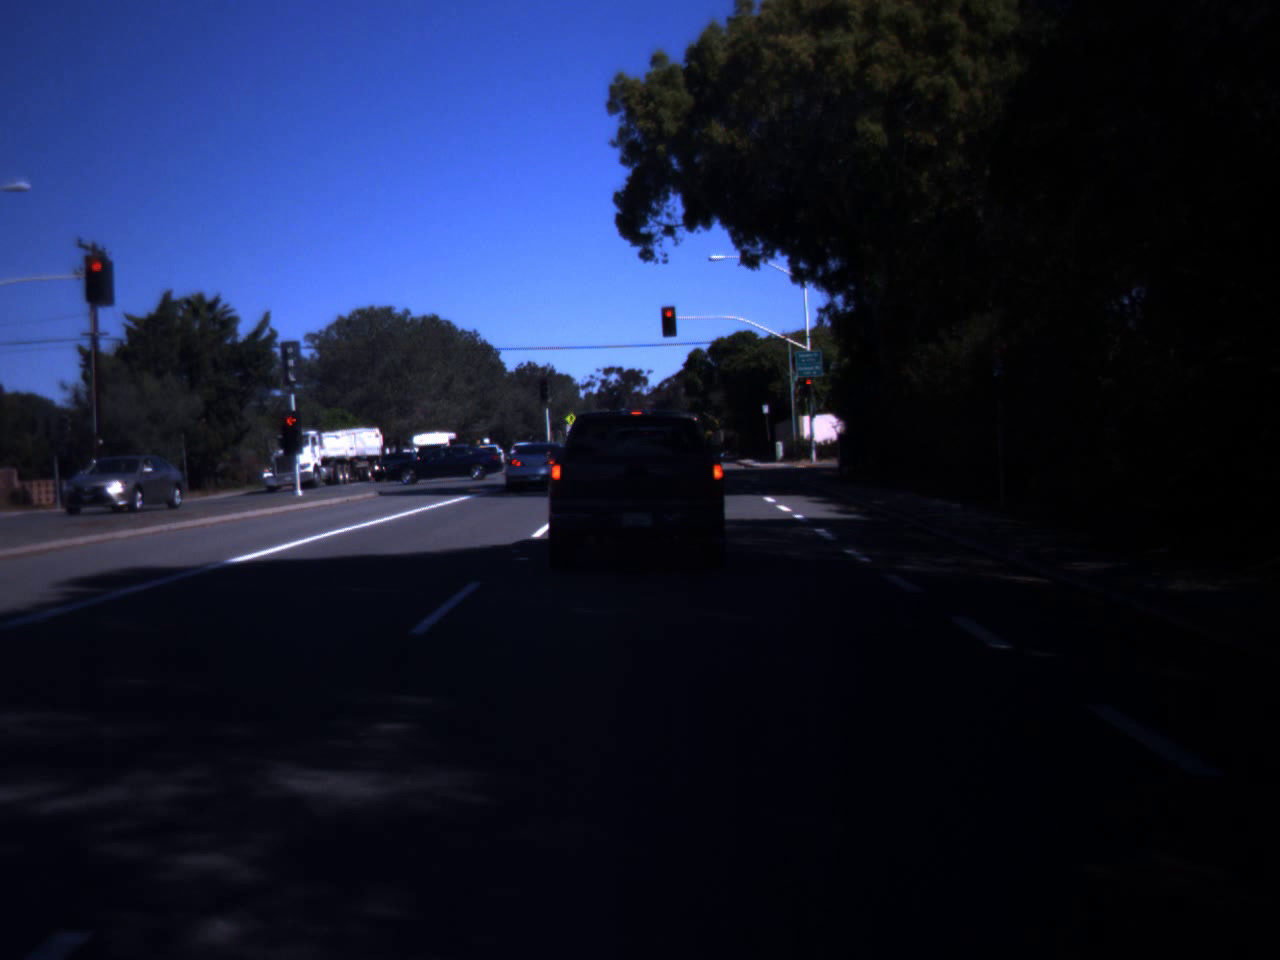stop: (83, 258, 110, 294), (663, 310, 675, 328), (283, 418, 295, 436)
